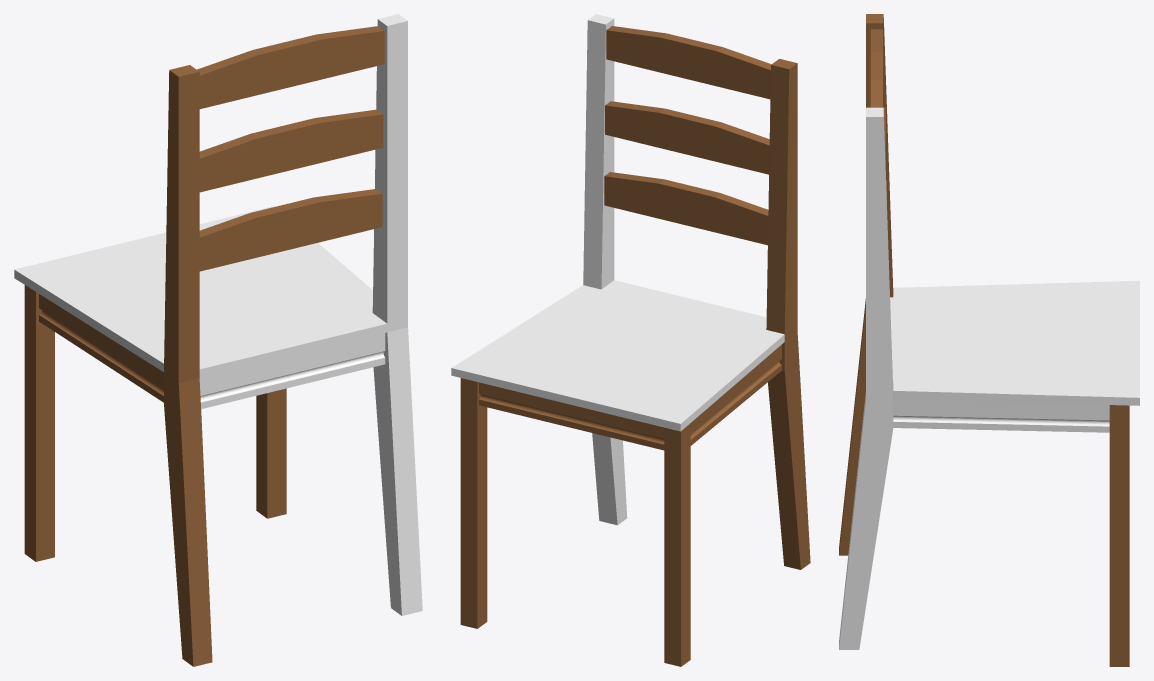
3 views of the same model, side by side, from view 1: azimuth 30°, elevation 25°; view 2: azimuth 150°, elevation 25°; view 3: azimuth 270°, elevation 25° (orthographic). The views are drawn at different scales.
Parts seen in each view (by area): view 1: Mesh1 stoel1 Model, Mesh2 stoel1 Model; view 2: Mesh1 stoel1 Model, Mesh2 stoel1 Model; view 3: Mesh1 stoel1 Model, Mesh2 stoel1 Model.
Part boxes in pixels (left/top/right/bottom): Mesh1 stoel1 Model: left=14, top=14, right=422, bottom=666; Mesh2 stoel1 Model: left=197, top=26, right=384, bottom=108; Mesh1 stoel1 Model: left=451, top=14, right=810, bottom=666; Mesh2 stoel1 Model: left=606, top=26, right=771, bottom=99; Mesh1 stoel1 Model: left=839, top=14, right=1139, bottom=666; Mesh2 stoel1 Model: left=870, top=29, right=882, bottom=107.
Bounding box in the file's own units: 0.3875 × 0.8411 × 0.4206.
